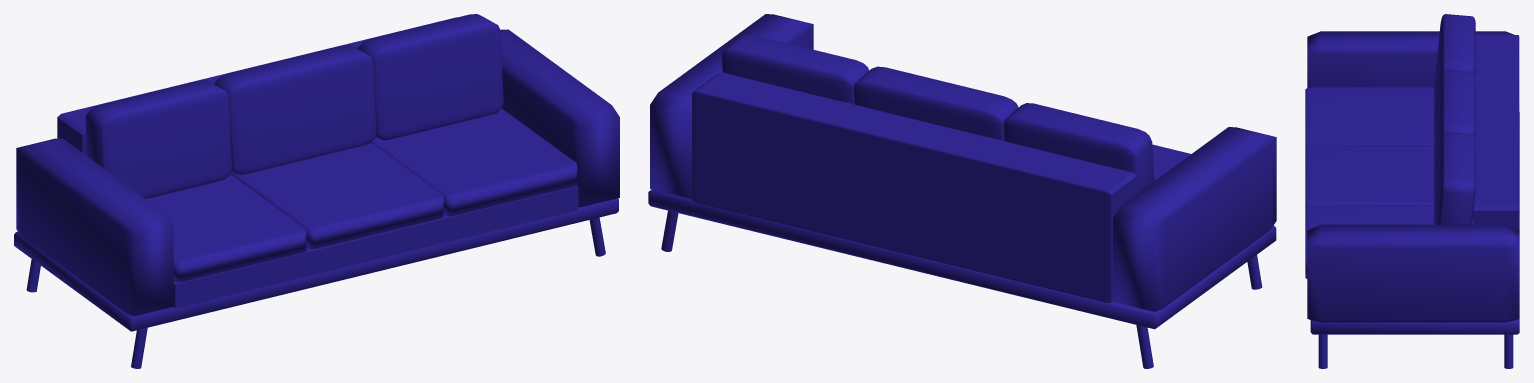
File: Haaken 3 Seater Sofa.glb
The picture shows the model from 3 angles, left to right: view 1: azimuth 30°, elevation 25°; view 2: azimuth 150°, elevation 25°; view 3: azimuth 270°, elevation 25°; orthographic projection. The views are drawn at different scales.
Parts seen in each view (by area): view 1: Model (×11); view 2: Model (×9); view 3: Model (×11).
Boxes of the visible parts, bbox=[...] form: Model (×11): bbox=[14, 14, 619, 368]; Model (×9): bbox=[648, 14, 1276, 368]; Model (×11): bbox=[1305, 14, 1519, 368].
Size of the model in its own units: 3411 by 1281 by 1452.
